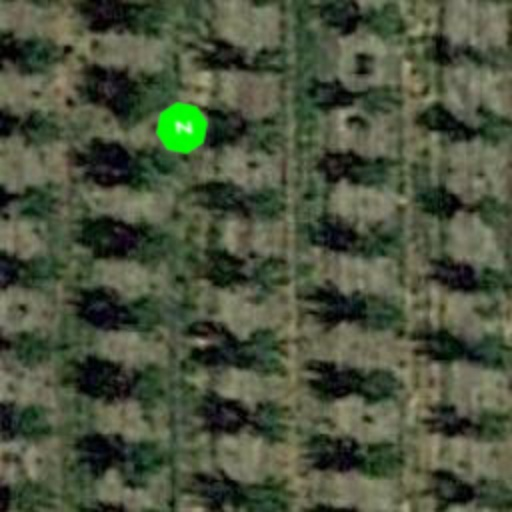octagon: (150, 96, 214, 160)
